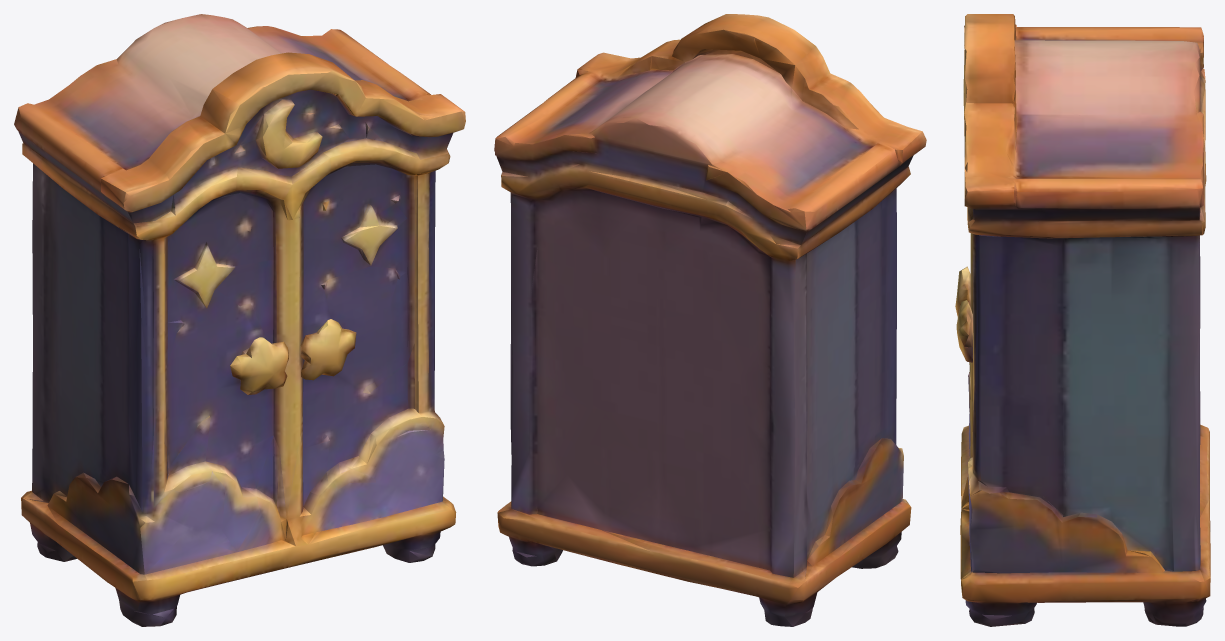
Rendered from cabinet23.glb.
3 views of the same model, side by side, from view 1: azimuth 30°, elevation 25°; view 2: azimuth 150°, elevation 25°; view 3: azimuth 270°, elevation 25° (orthographic). The views are drawn at different scales.
Bounding box in the file's own units: 0.2087 × 0.3044 × 0.1326.
Materials: 1 (1 with a texture image).
